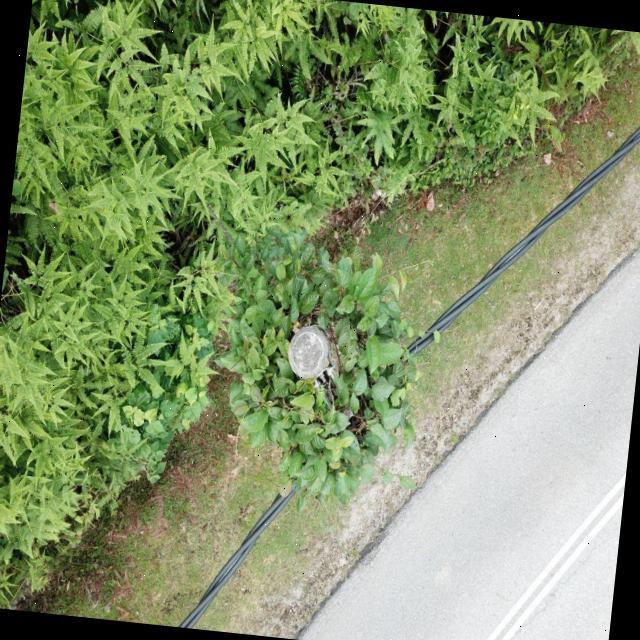critical vegetation: (182, 218, 452, 528)
